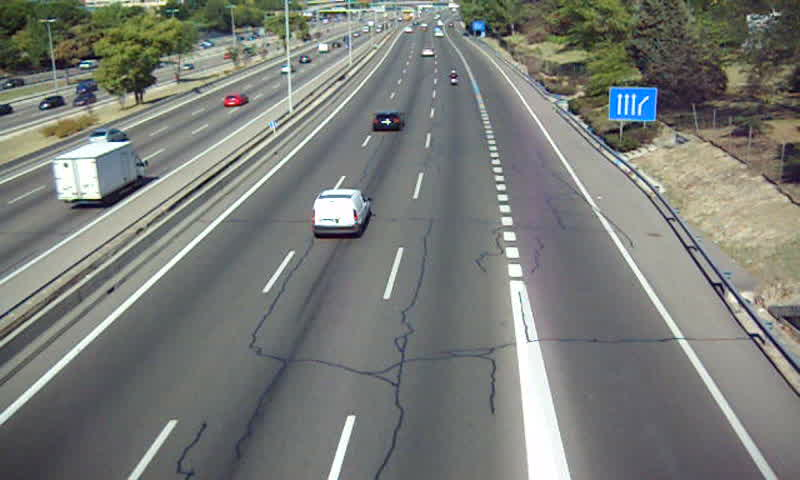car: (372, 111, 404, 133)
motorcycle: (449, 70, 460, 88)
van: (311, 190, 373, 238)
